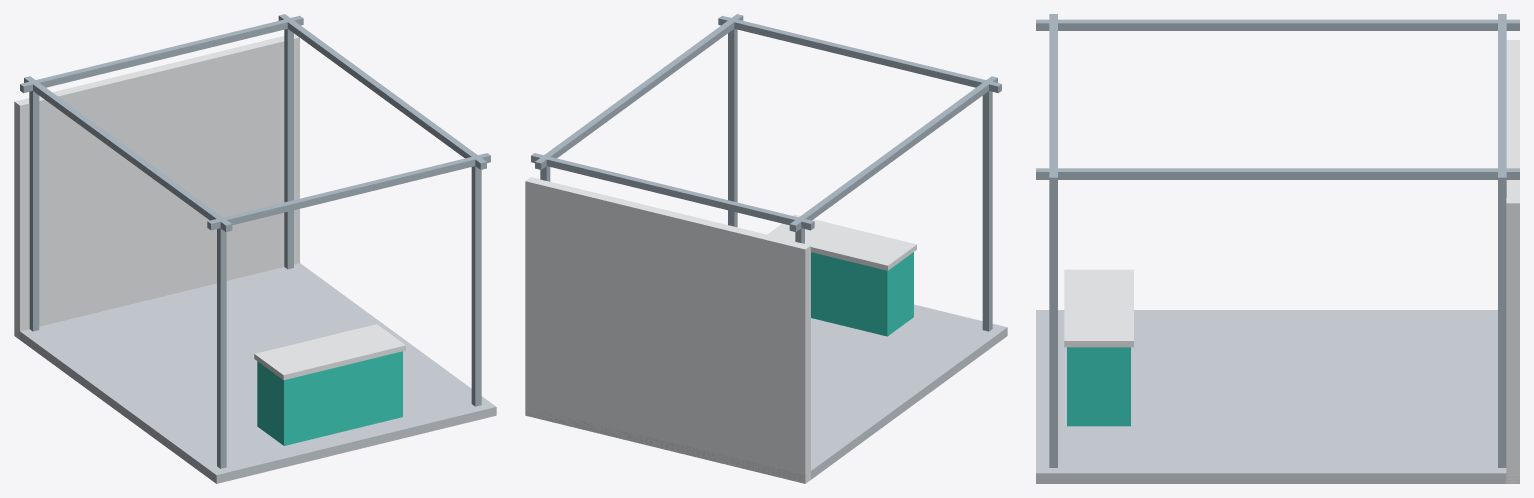
3 renders of one model, left to right at view 1: azimuth 30°, elevation 25°; view 2: azimuth 150°, elevation 25°; view 3: azimuth 270°, elevation 25°, orthographic. The views are drawn at different scales.
Visible parts, largest first — view 1: Exhibition Booth Concept; view 2: Exhibition Booth Concept; view 3: Exhibition Booth Concept.
Part boxes in pixels (box(x1,y1,x2,y2)): Exhibition Booth Concept: box(14, 14, 496, 483); Exhibition Booth Concept: box(525, 14, 1007, 483); Exhibition Booth Concept: box(1036, 14, 1519, 483).
Size of the model in its own units: 4 by 3.49 by 5.
